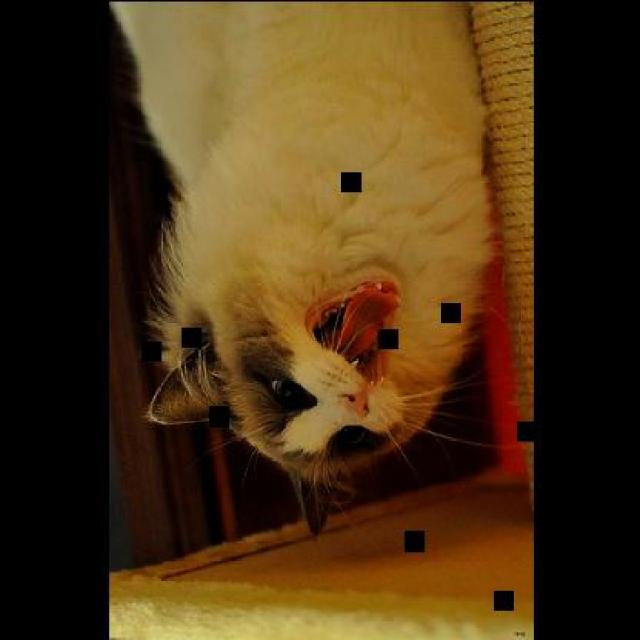unauthorized: (108, 0, 506, 531)
